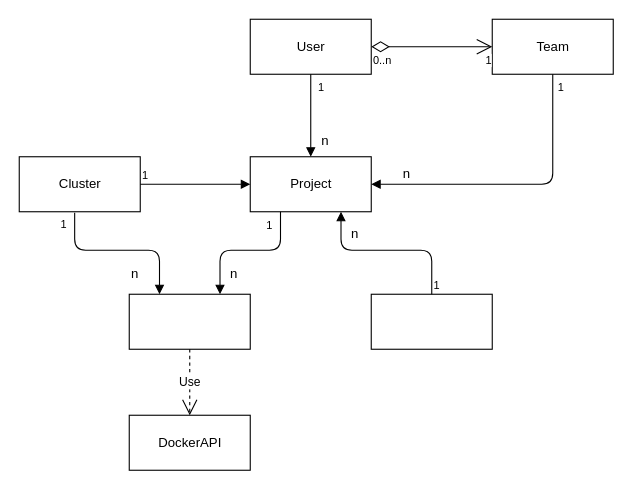
The diagram is 633 pixels wide and 490 high, and some of its shapes have lost their labels. The shapes that lost their labels are listed below. From the top down, each one's box as (x1, y1, x2, y2) in pixels, then its label:
(128, 293, 250, 349): Build
(370, 293, 492, 349): Repository
